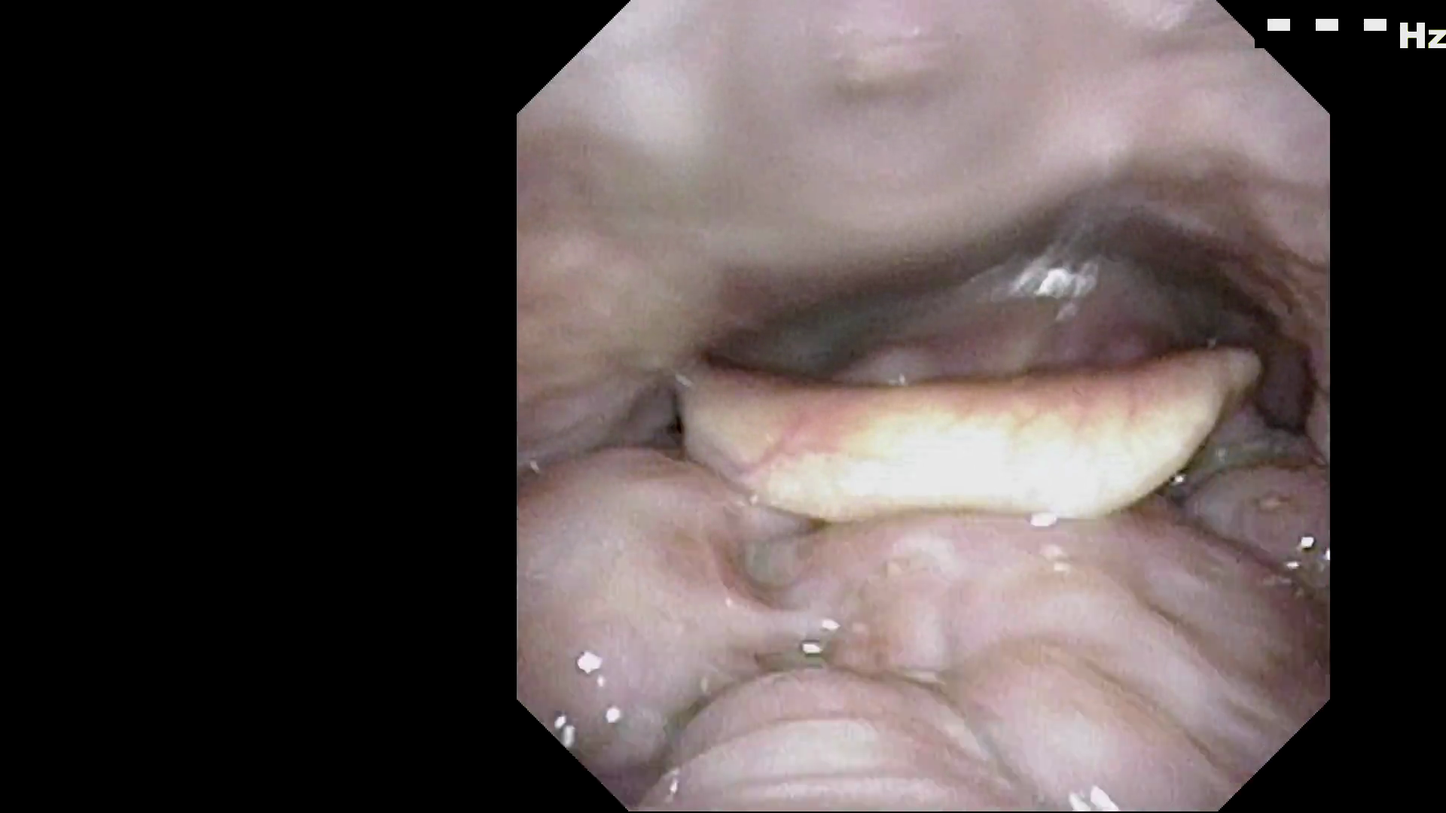epiglottis: (674, 360, 1279, 549)
trachea: (935, 386, 1089, 467)
